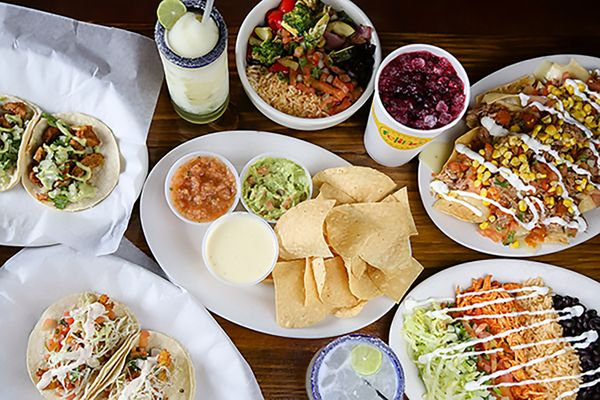sushi: (233, 0, 383, 130), (18, 107, 122, 212), (307, 333, 407, 399), (114, 327, 196, 399), (201, 211, 279, 286), (163, 151, 241, 225), (240, 153, 313, 225)
